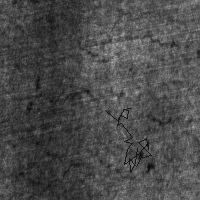crazing: (35, 31, 181, 105), (28, 145, 157, 189), (105, 108, 151, 172)
